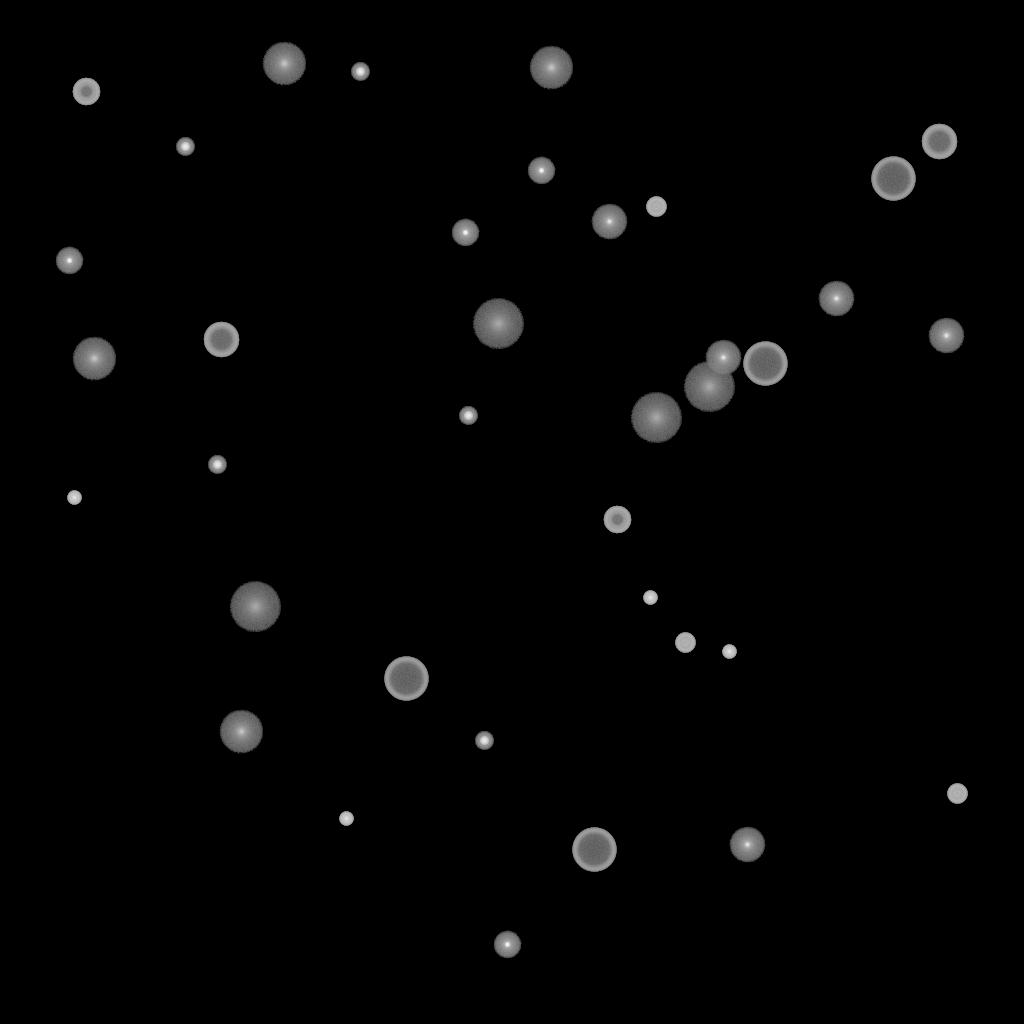depth:-10: (451, 219, 479, 247), (527, 157, 555, 185), (493, 931, 521, 959), (55, 247, 83, 275)
depth:-20: (475, 732, 493, 750), (208, 456, 226, 474), (176, 138, 194, 156), (351, 63, 369, 81), (459, 407, 477, 425)
depth:-30: (67, 491, 81, 505), (339, 812, 353, 826), (643, 591, 657, 605), (722, 645, 736, 659)
depth:-40: (947, 784, 967, 804), (675, 633, 695, 653), (646, 197, 666, 217)
depth:-50: (603, 506, 631, 534), (72, 78, 100, 106)
depth:-60: (203, 322, 239, 358), (921, 124, 957, 160)
depth:-70: (871, 157, 915, 201), (384, 657, 428, 701), (572, 828, 616, 872), (743, 342, 787, 386)
depth:0: (705, 340, 741, 376), (818, 281, 854, 317), (591, 204, 627, 240), (928, 318, 964, 354), (729, 827, 765, 863)
depth:10: (529, 46, 573, 90), (72, 337, 116, 381), (219, 710, 263, 754), (262, 42, 306, 86)
depth:20: (683, 362, 735, 412), (472, 299, 524, 349), (630, 393, 682, 443), (229, 582, 281, 632)
